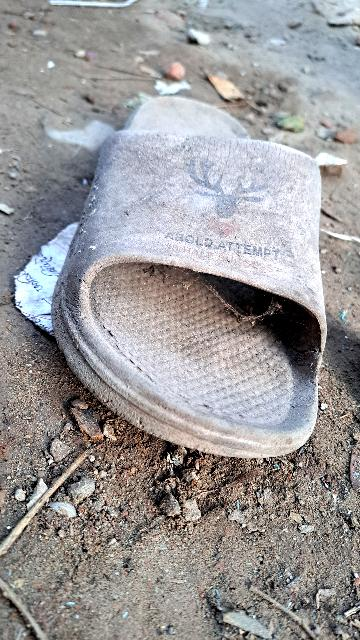sandal: (22, 89, 360, 465)
